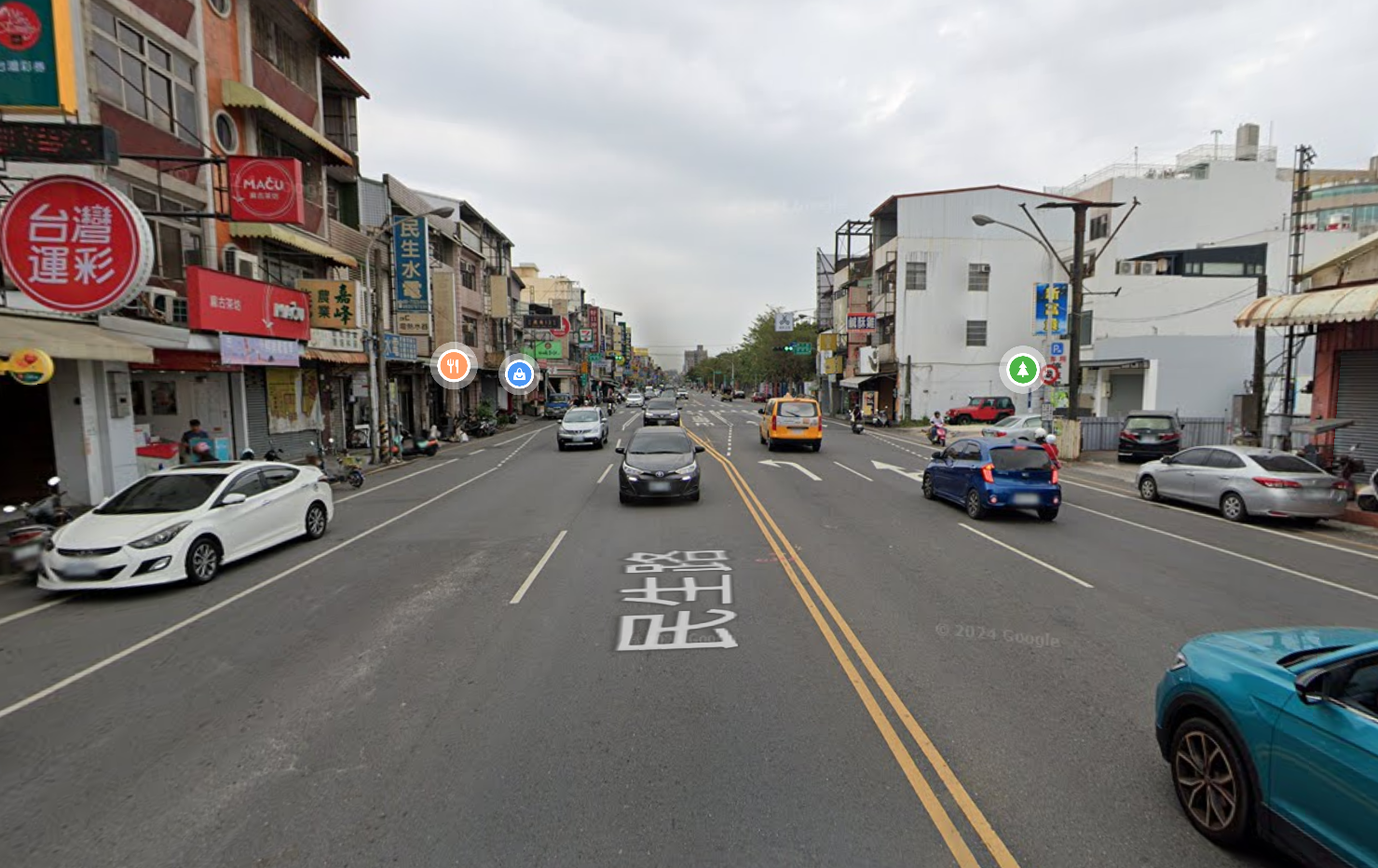green: (773, 342, 798, 353), (603, 353, 625, 363)
